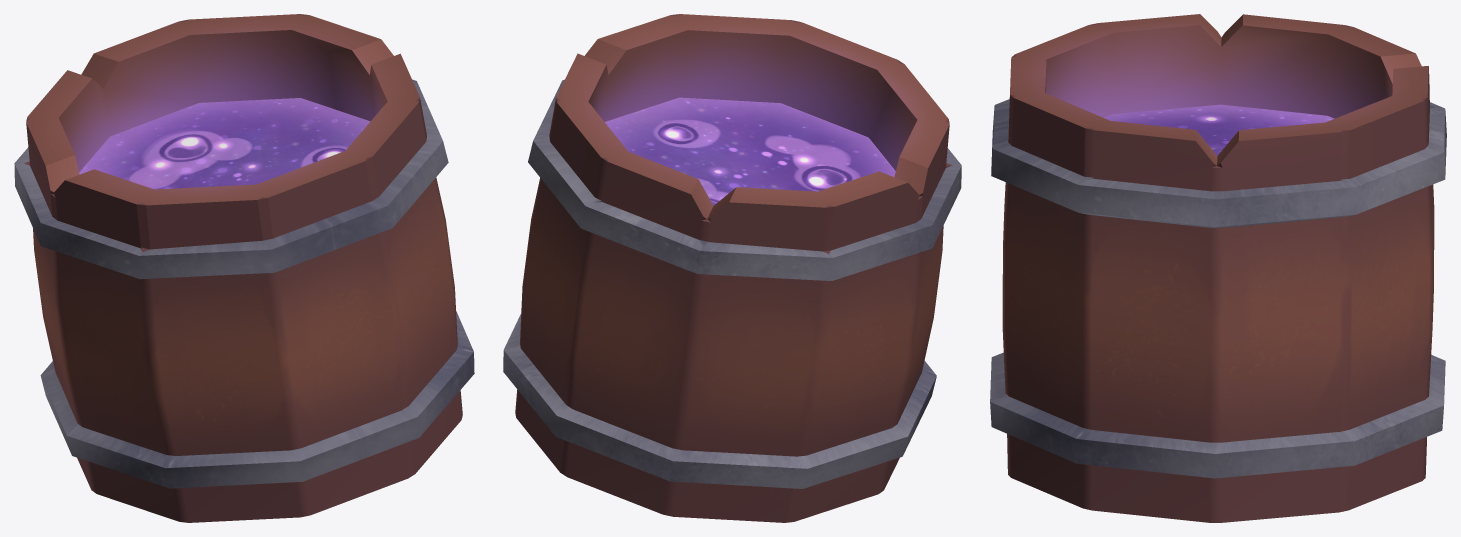
File: Air_Swim.glb
3 views of the same model, side by side, from view 1: azimuth 30°, elevation 25°; view 2: azimuth 150°, elevation 25°; view 3: azimuth 270°, elevation 25° (orthographic). The views are drawn at different scales.
Visible parts, largest first — view 1: pCylinder1; view 2: pCylinder1; view 3: pCylinder1.
Boxes of the visible parts, x1,y1,x2,y2 form: pCylinder1: (14,14,474,522); pCylinder1: (503,14,961,522); pCylinder1: (990,14,1446,522).
Size of the model in its own units: 2.41 by 2.13 by 2.15.
1 material, 1 textured.
